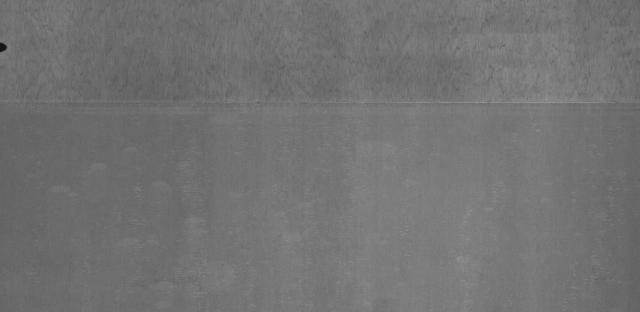punching_hole: (0, 40, 14, 56)
silk_spot: (20, 0, 639, 89)
welding_line: (1, 91, 640, 114)
